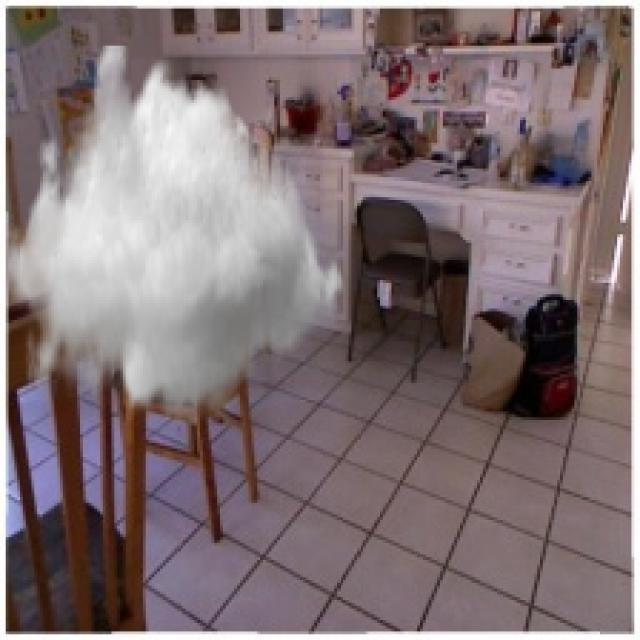smoke: (6, 43, 351, 426)
